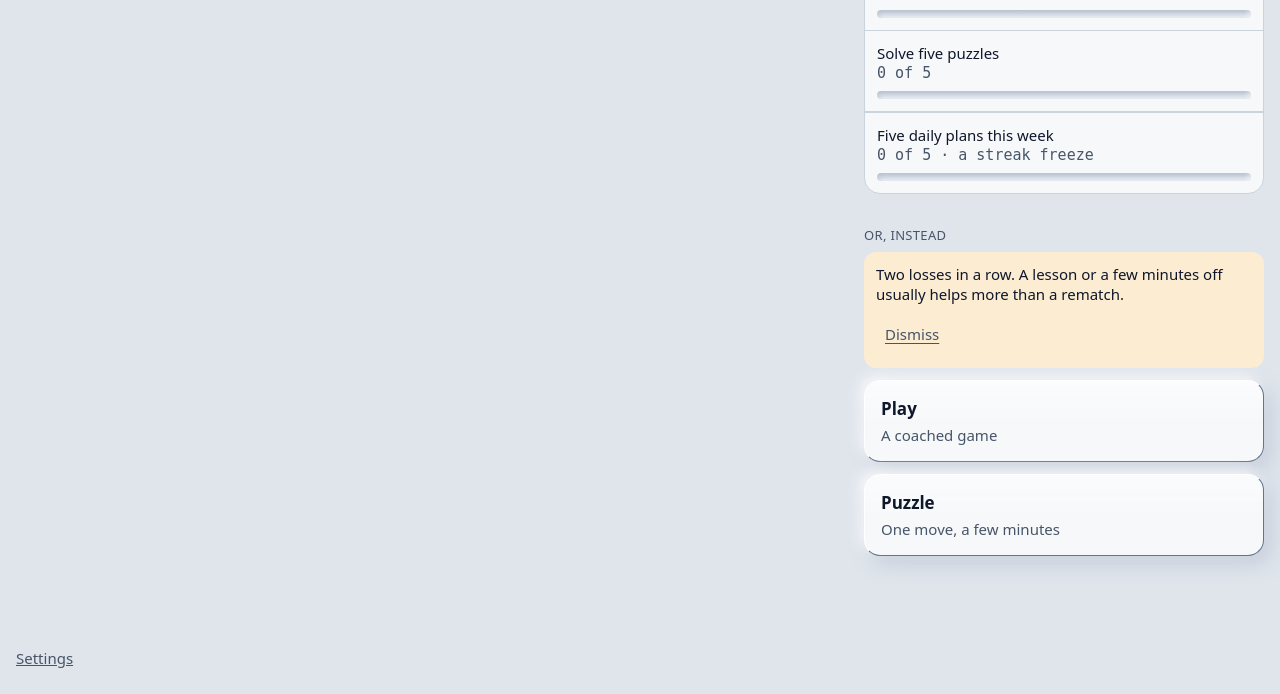
Scenario: the suggestion can be dismissed, and the dismissal is for the day
This screenshot has width=1280, height=694.
(page scrolled)
Click the button "Dismiss": (912, 334) [876,312,948,356]
(page scrolled)
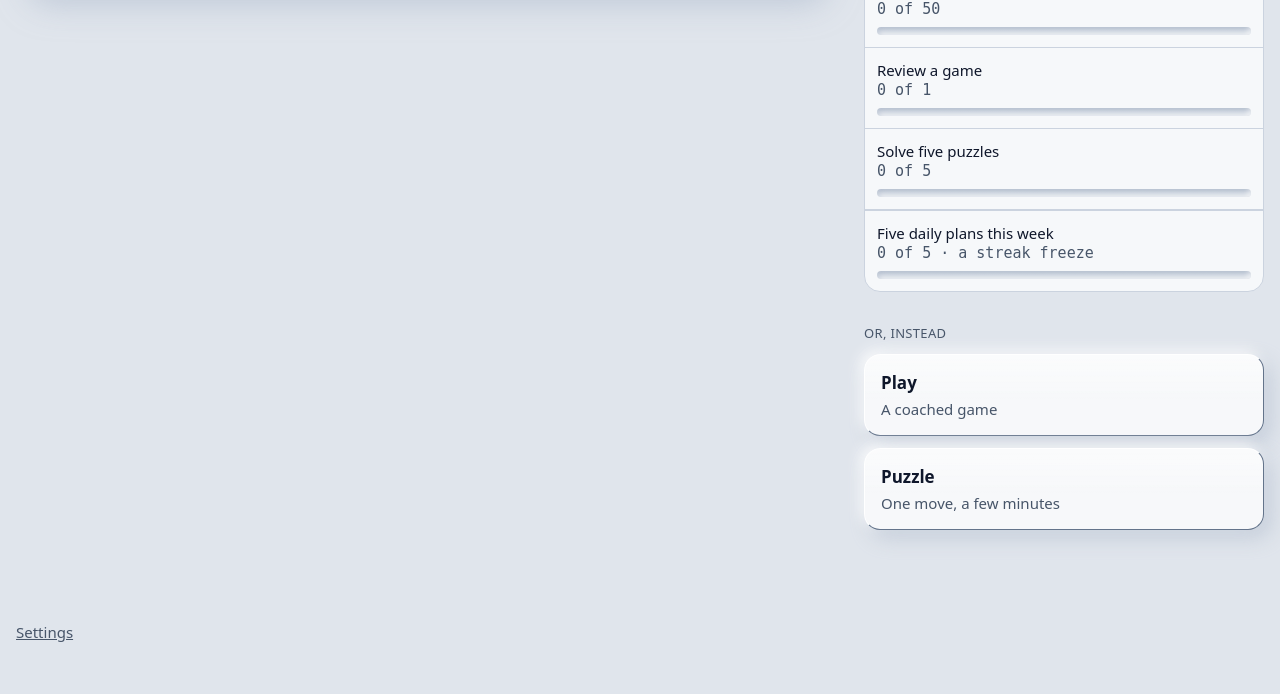
Check: the text "Two losses in a row" is gone
